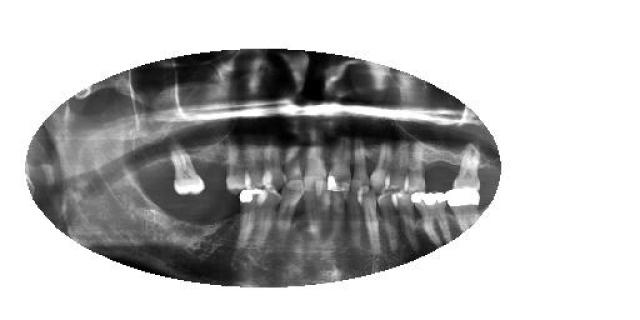Fillings: (411, 192, 451, 246), (236, 190, 262, 251), (445, 186, 479, 230)
